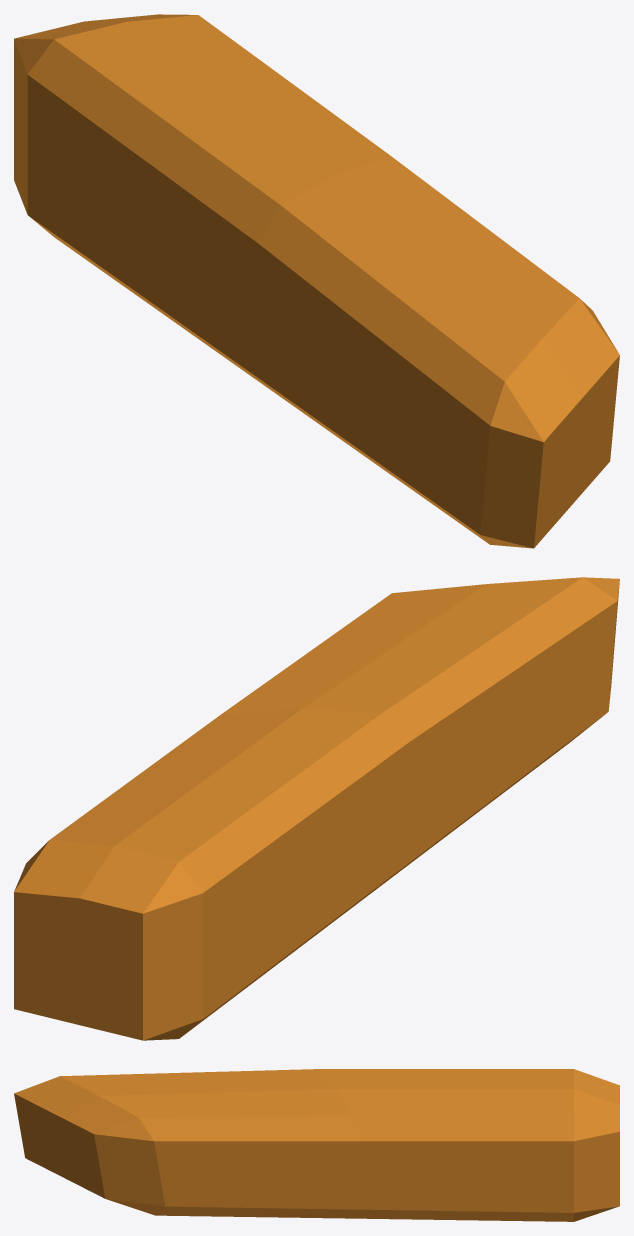
Rendered from reactorcore.fbx.
3 views of the same model, one above another, from view 1: azimuth 30°, elevation 25°; view 2: azimuth 150°, elevation 25°; view 3: azimuth 270°, elevation 25° (orthographic). The views are drawn at different scales.
Parts seen in each view (by area): view 1: Part_ReactorCore; view 2: Part_ReactorCore; view 3: Part_ReactorCore.
Part boxes in pixels (x1=…): Part_ReactorCore: x1=14, y1=14, x2=619, y2=548; Part_ReactorCore: x1=14, y1=577, x2=619, y2=1040; Part_ReactorCore: x1=14, y1=1069, x2=619, y2=1221.
Bounding box in the file's own units: 105 × 101 × 492.
